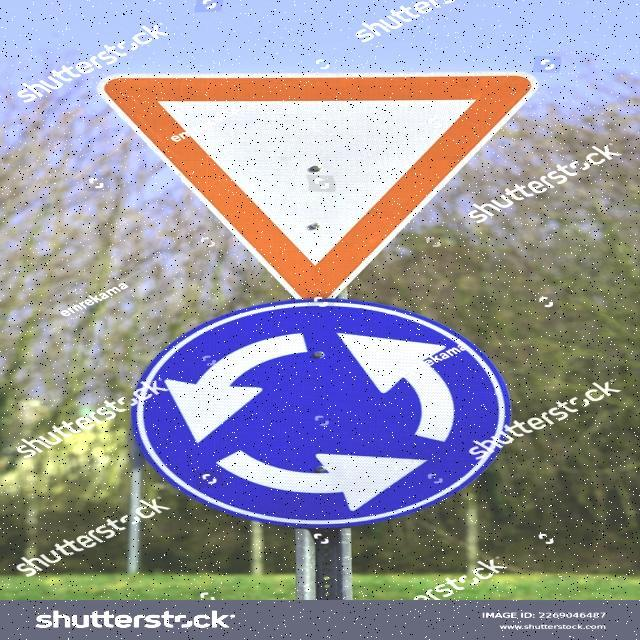Traffic sign: (94, 67, 540, 532)
